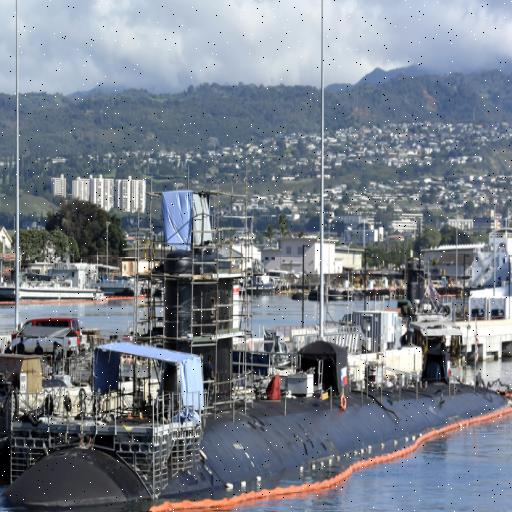submarine: (1, 189, 512, 506)
